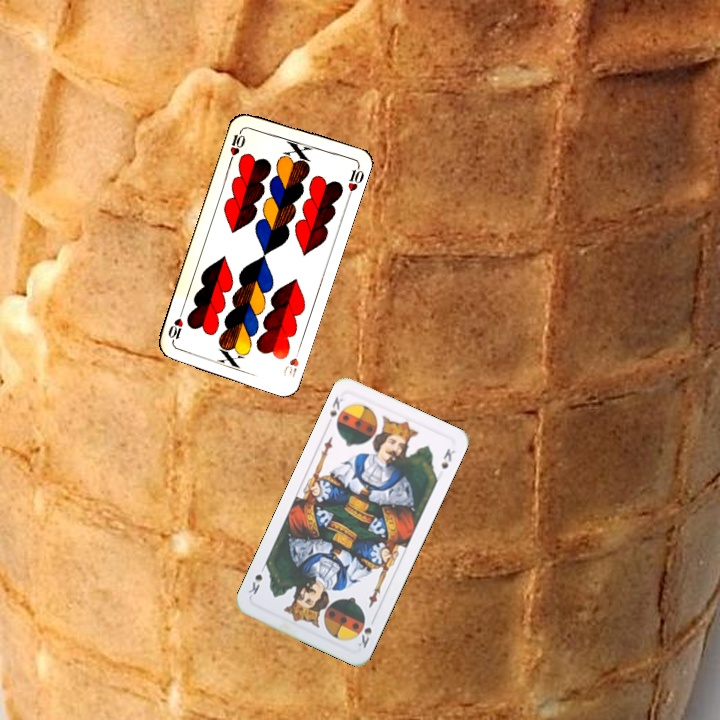H10: (279, 342, 304, 380), (226, 125, 248, 158)
SK: (325, 392, 348, 430), (354, 623, 374, 651)
